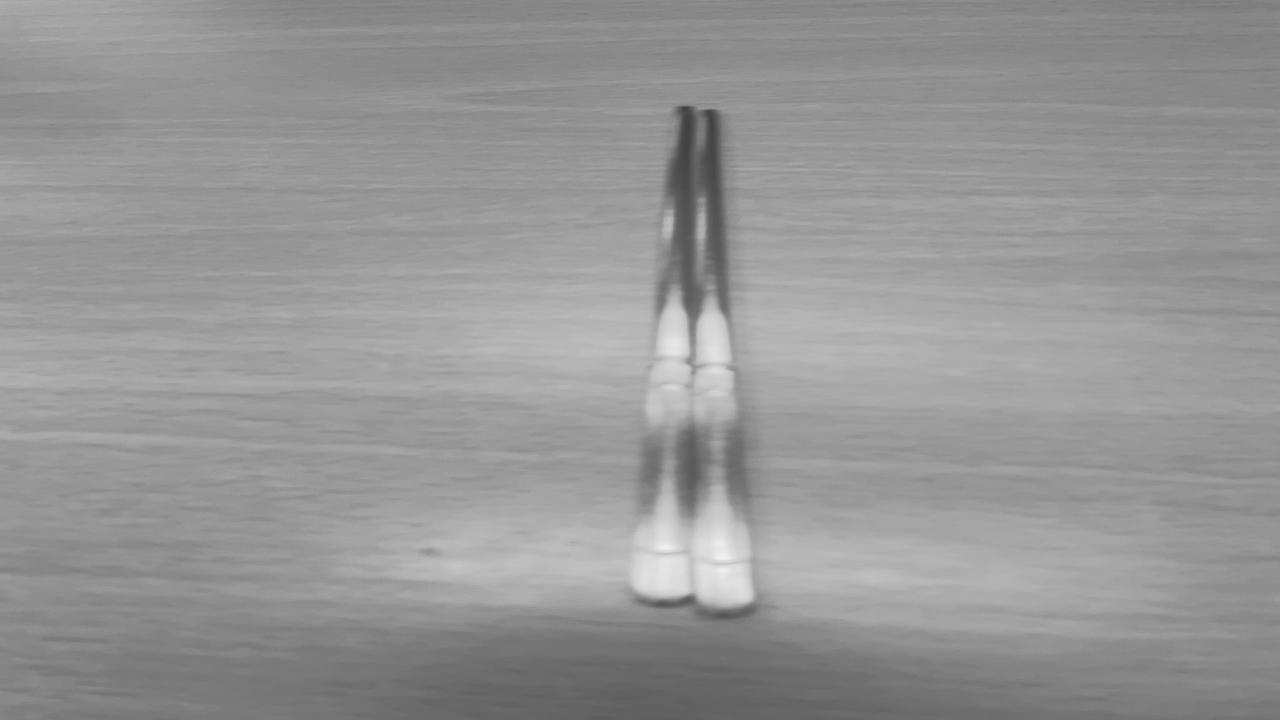chopstick: (626, 105, 764, 619)
